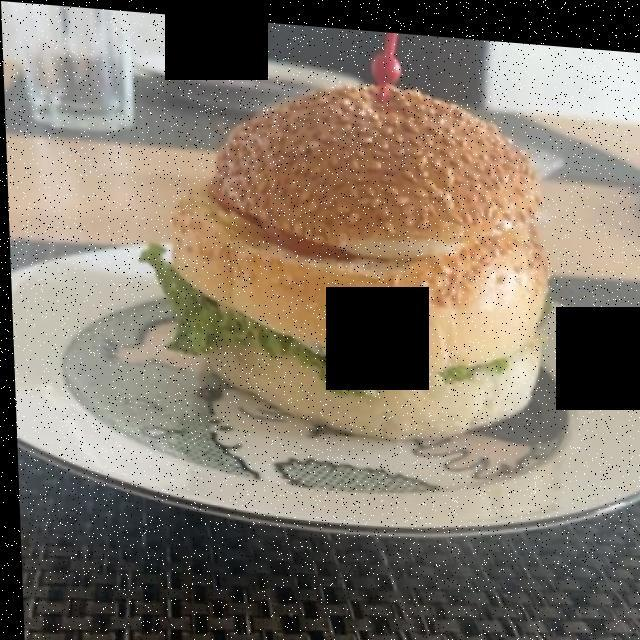bun: (153, 70, 546, 430)
salad: (140, 247, 472, 390)
tomato: (227, 199, 348, 251)
